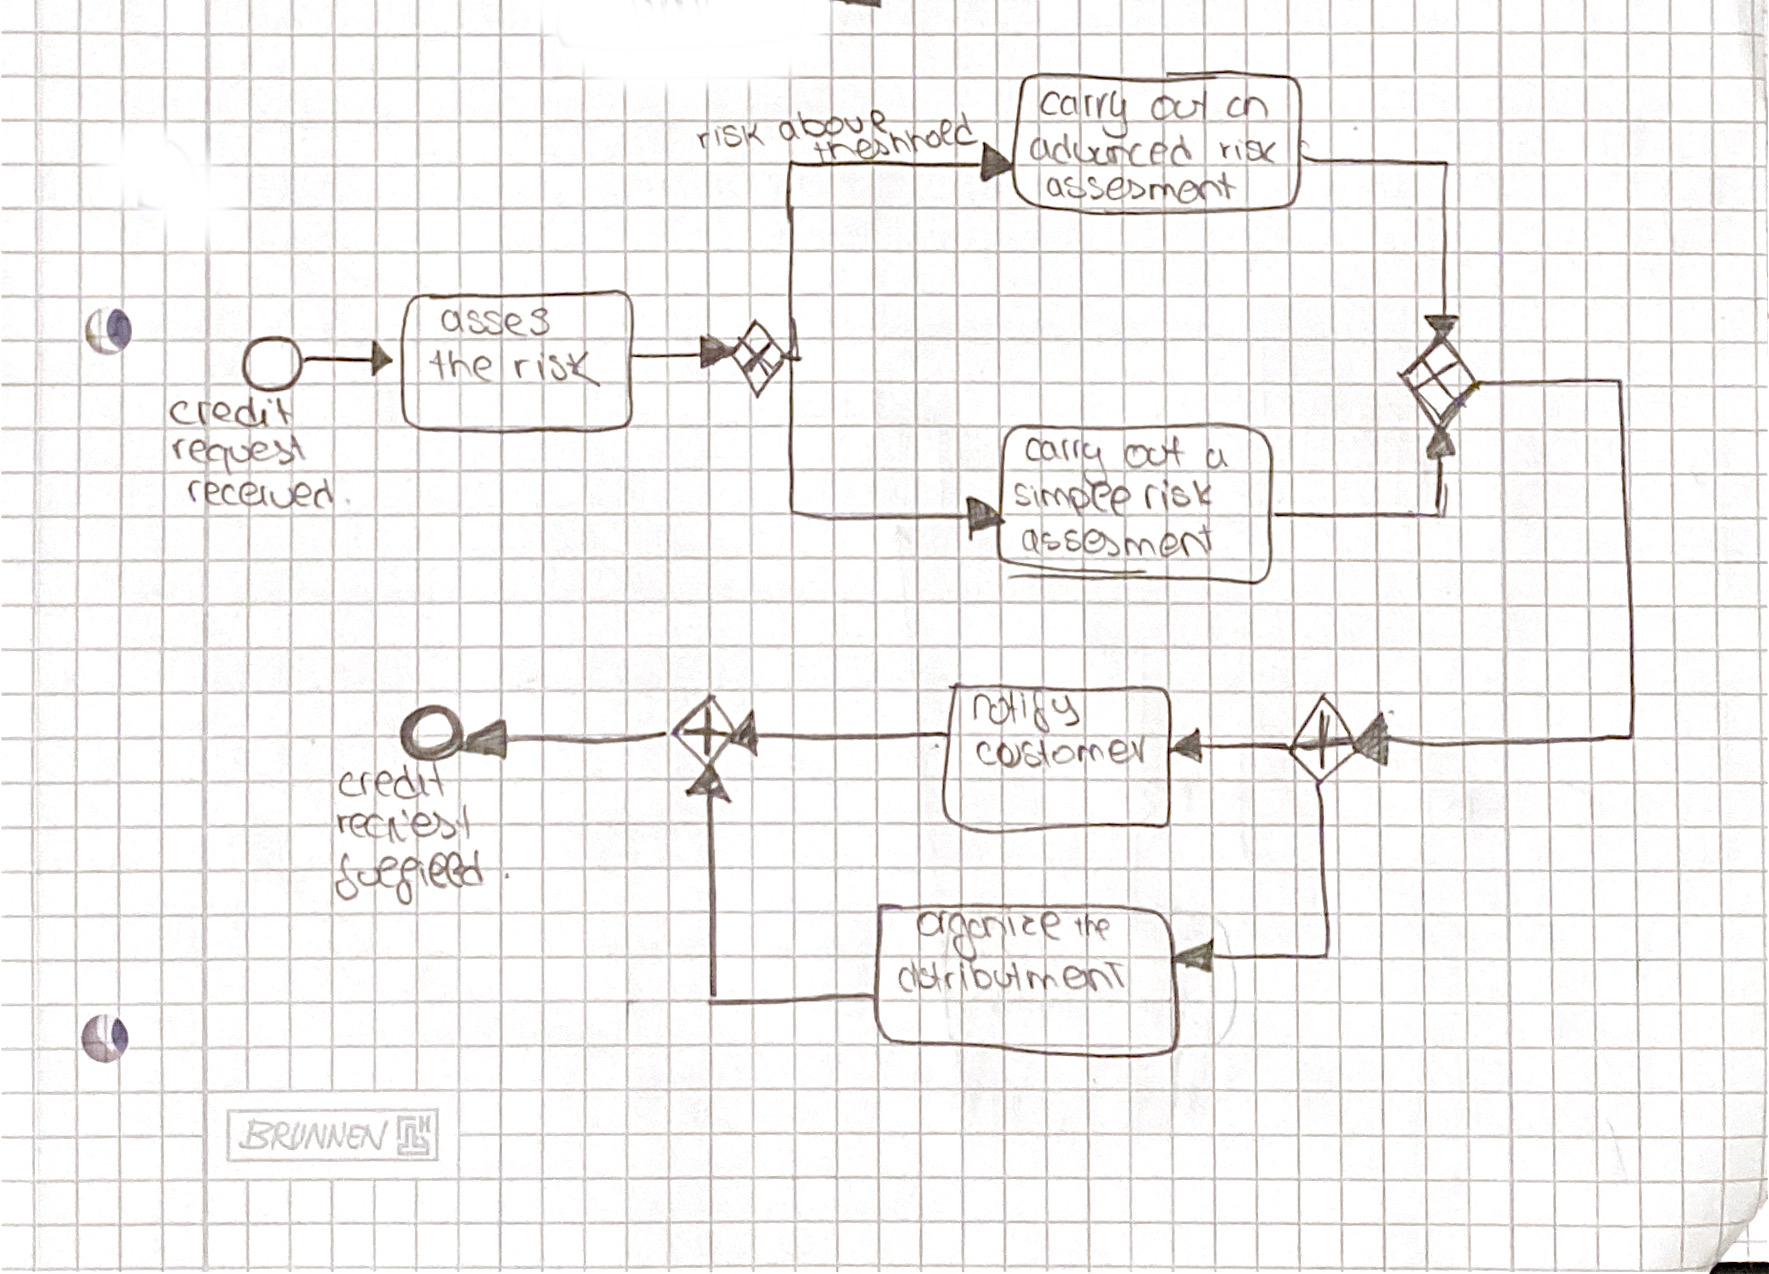a: (1200, 443, 1231, 478)
above: (775, 104, 891, 146)
advanced: (1026, 129, 1198, 172)
asses: (435, 303, 553, 343)
assesment: (1016, 520, 1218, 561), (1042, 167, 1240, 209)
carry: (1036, 86, 1133, 144), (1020, 434, 1114, 490)
credit: (163, 393, 299, 432), (334, 759, 452, 804)
customer: (972, 730, 1152, 776)
distributment: (893, 955, 1130, 998)
fulfilld: (331, 846, 488, 909)
notify: (968, 686, 1084, 739)
on: (1222, 92, 1273, 128)
organize: (911, 907, 1064, 966)
out: (1145, 86, 1214, 129), (1119, 432, 1188, 472)
received: (183, 474, 339, 513)
recivest: (332, 800, 477, 850)
request: (166, 430, 310, 480)
risk: (510, 345, 608, 393), (1139, 476, 1216, 516), (694, 118, 771, 155), (1214, 135, 1281, 170)
simple: (1009, 476, 1137, 523)
the: (424, 346, 499, 389), (1070, 910, 1115, 945)
theshhold: (809, 107, 983, 163)
